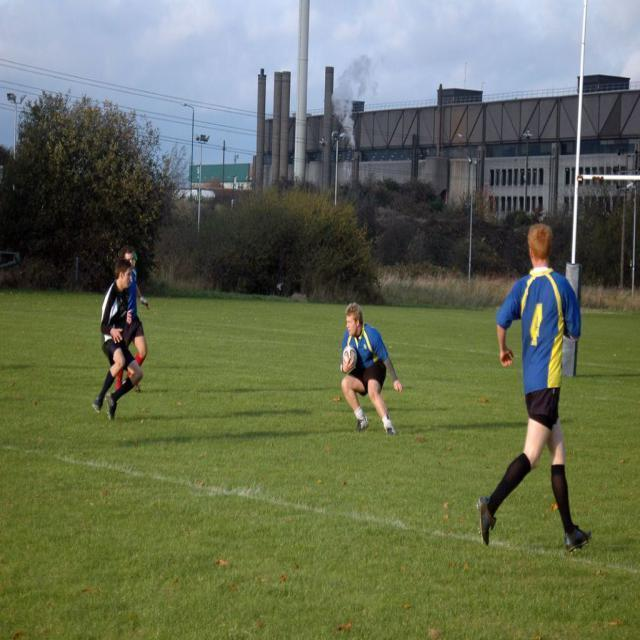ball: (343, 345, 359, 365)
